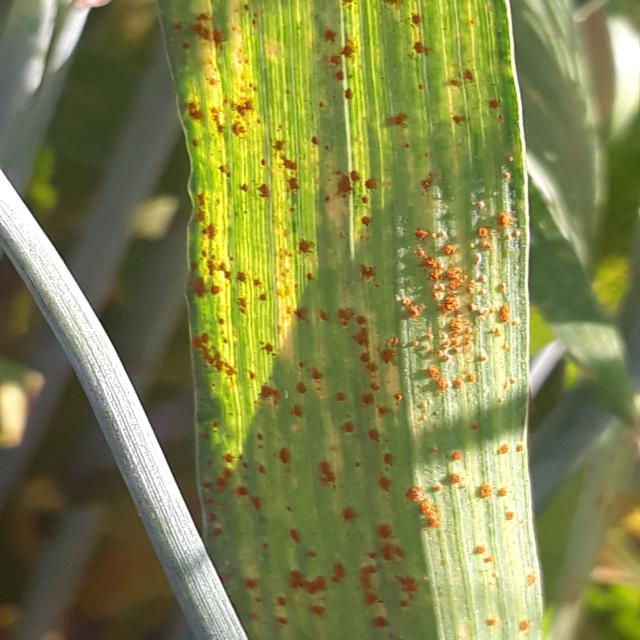orang_rust: (158, 0, 558, 640)
